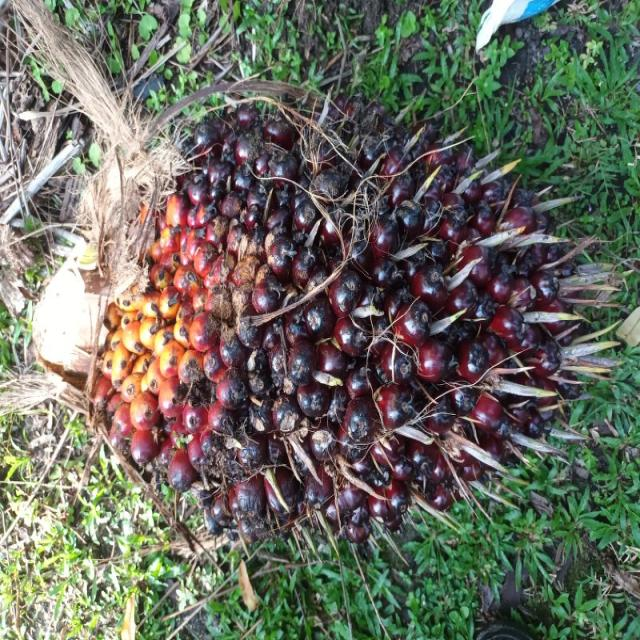fraksi 1: (28, 71, 580, 548)
